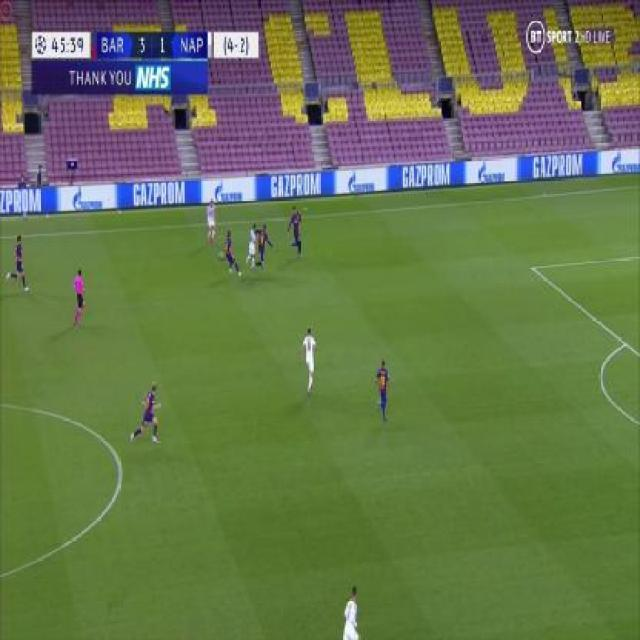ball: (219, 249, 224, 260)
player: (129, 380, 163, 448), (300, 324, 319, 393), (9, 229, 29, 292), (374, 356, 391, 424), (342, 583, 361, 640), (71, 266, 88, 326), (222, 229, 241, 277), (288, 201, 304, 257), (256, 223, 273, 269), (244, 222, 260, 270), (204, 195, 218, 244)
